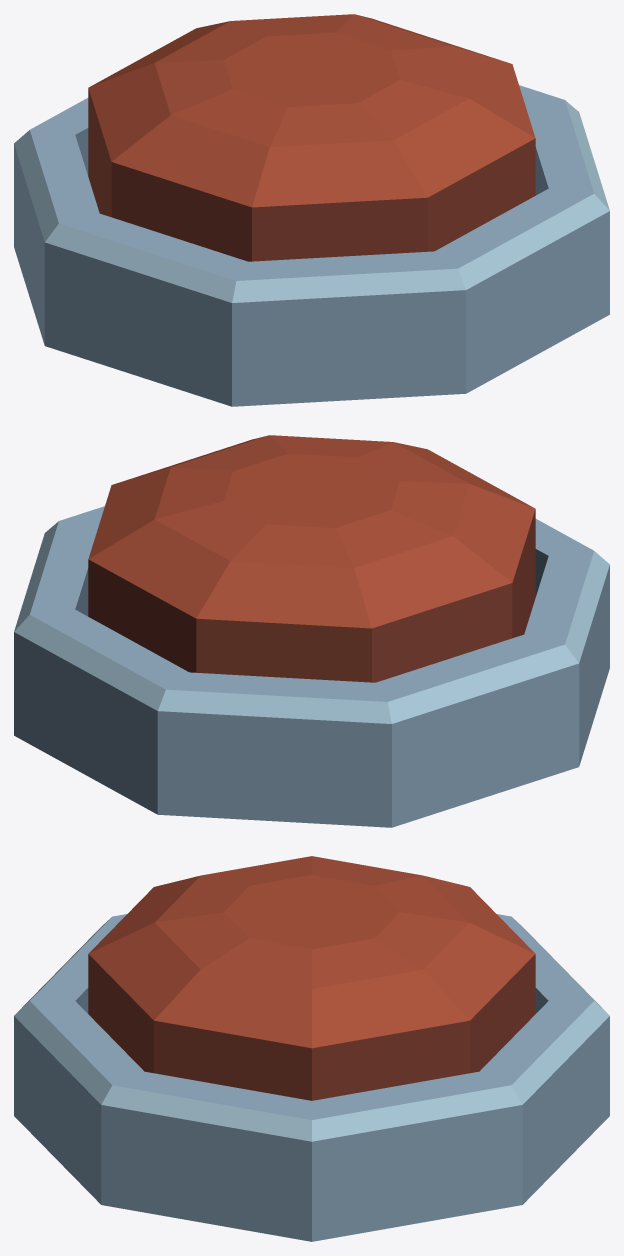
Rendered from brownbutton.glb.
3 renders of one model, top to bottom at view 1: azimuth 30°, elevation 25°; view 2: azimuth 150°, elevation 25°; view 3: azimuth 270°, elevation 25°, orthographic. The views are drawn at different scales.
Visible parts, largest first — view 1: Base_Button, Button; view 2: Base_Button, Button; view 3: Base_Button, Button.
Part boxes in pixels (left/top/right/bottom): Base_Button: left=14, top=85, right=609, bottom=406; Button: left=88, top=14, right=535, bottom=261; Base_Button: left=14, top=506, right=609, bottom=827; Button: left=88, top=435, right=535, bottom=682; Base_Button: left=14, top=914, right=609, bottom=1241; Button: left=88, top=856, right=535, bottom=1100.
Bounding box in the file's own units: 0.5393 × 0.2035 × 0.5393.
1 material, 1 textured.
